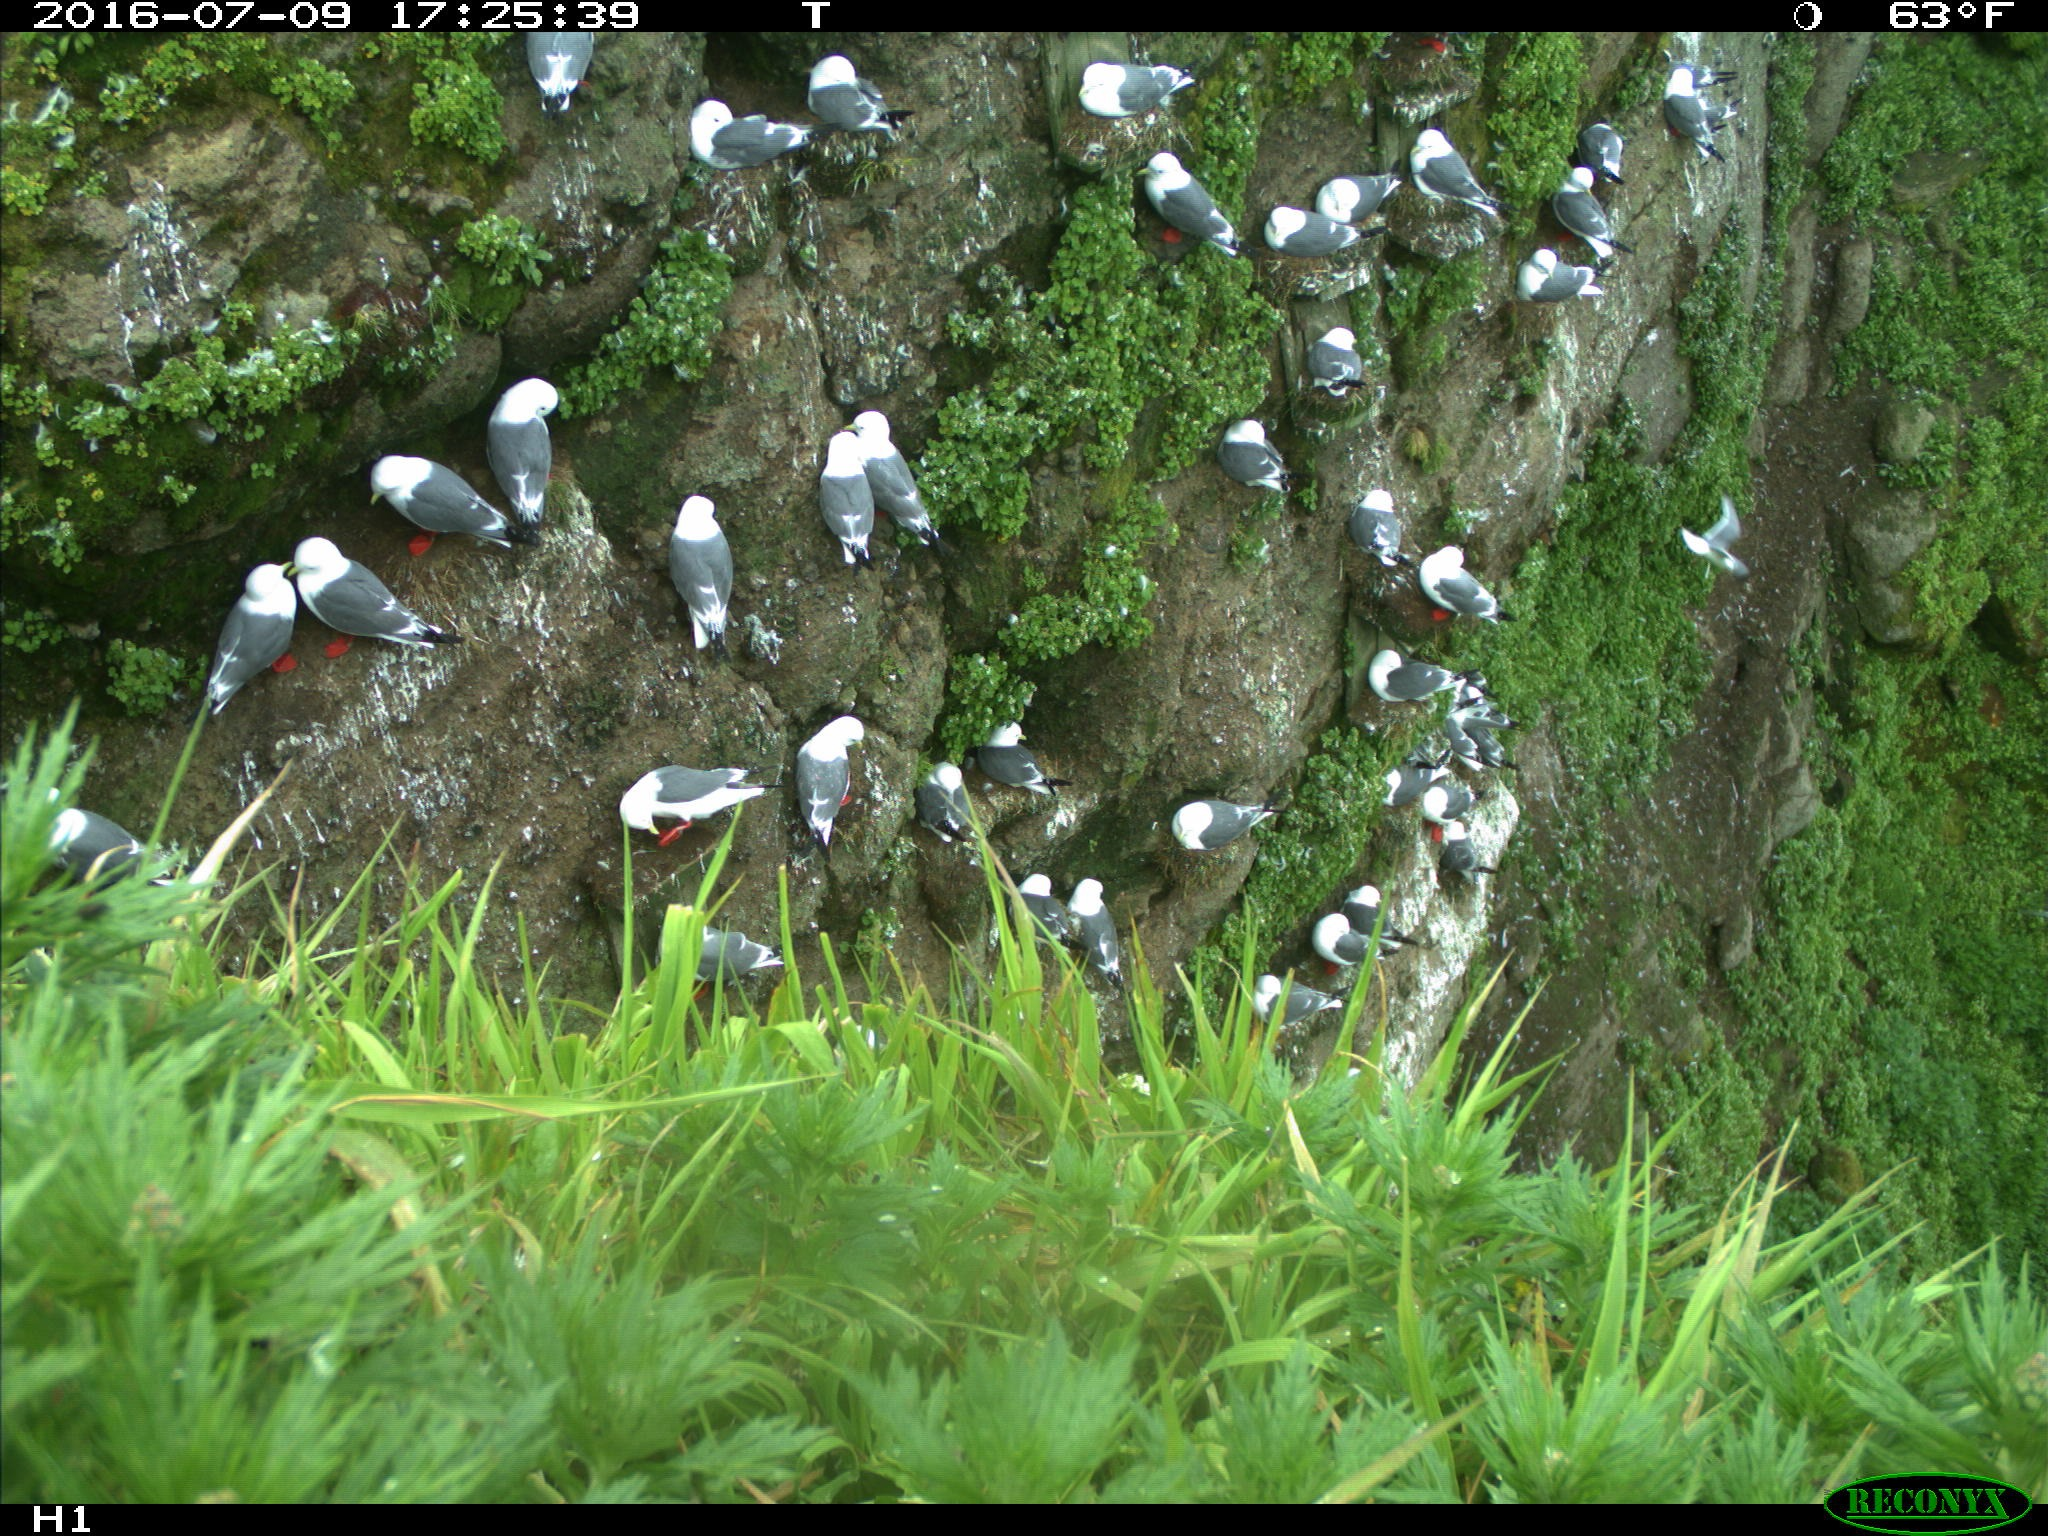Kittiwake: (302, 536, 439, 712), (668, 79, 832, 221), (353, 415, 477, 595), (203, 537, 327, 716), (642, 478, 803, 603), (1142, 776, 1313, 876), (600, 734, 706, 891), (1134, 124, 1232, 278), (481, 379, 576, 537), (800, 61, 934, 166), (858, 403, 950, 555), (787, 700, 874, 857), (1245, 939, 1350, 1060), (677, 897, 810, 992), (1066, 32, 1193, 127), (976, 691, 1071, 813), (1405, 532, 1508, 644), (1326, 463, 1429, 571), (1287, 323, 1434, 399), (811, 411, 877, 579), (1201, 403, 1301, 508), (974, 847, 1063, 962), (906, 742, 989, 858), (1251, 187, 1358, 271), (1584, 98, 1687, 182), (1359, 629, 1476, 700), (1500, 245, 1621, 311), (1405, 129, 1492, 219), (1066, 871, 1121, 1007), (1329, 886, 1437, 950), (513, 19, 595, 102), (1292, 908, 1372, 983), (1329, 145, 1384, 253), (1526, 174, 1600, 250), (1426, 753, 1467, 886), (1546, 103, 1613, 186), (1380, 744, 1434, 837)
